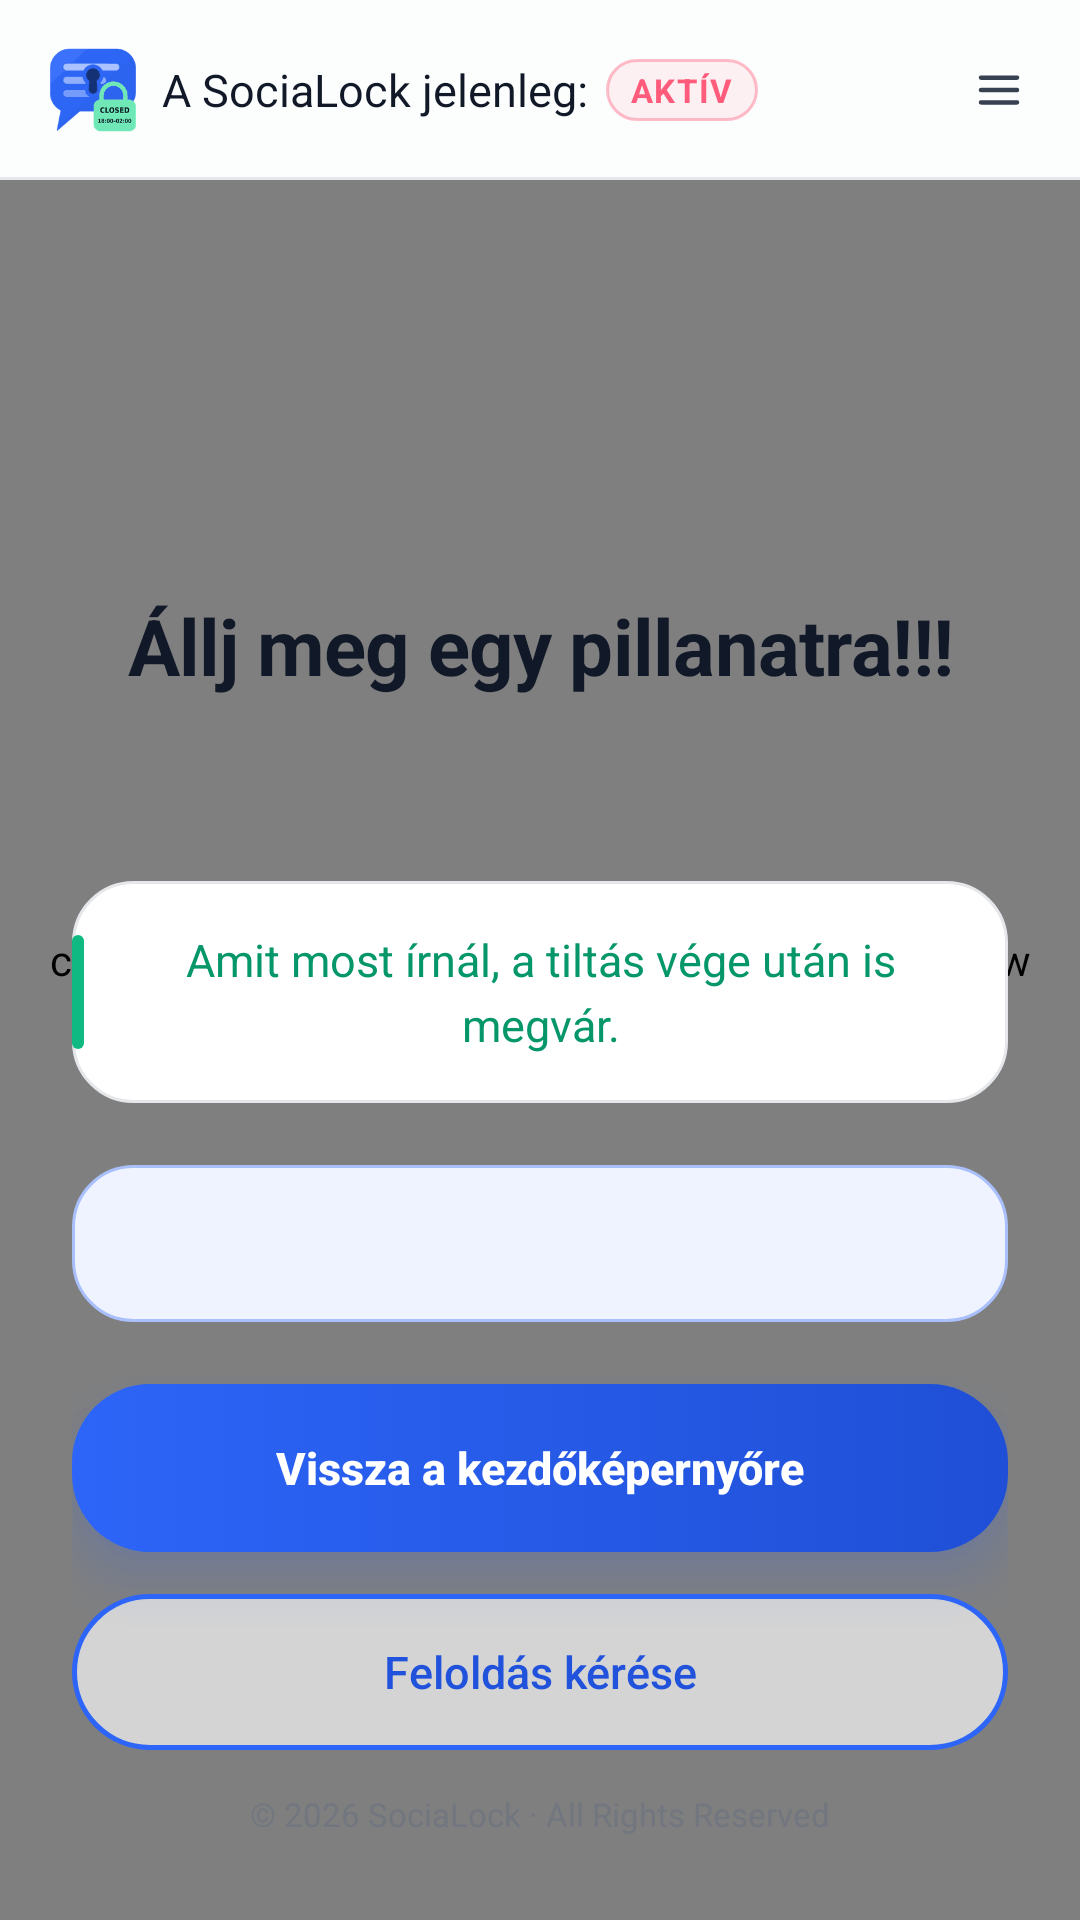

Icons on this 1080x1920 Android screen, each with its box as box=[x1, y1, x2, y2]:
Menü: box=[978, 75, 1020, 105]
